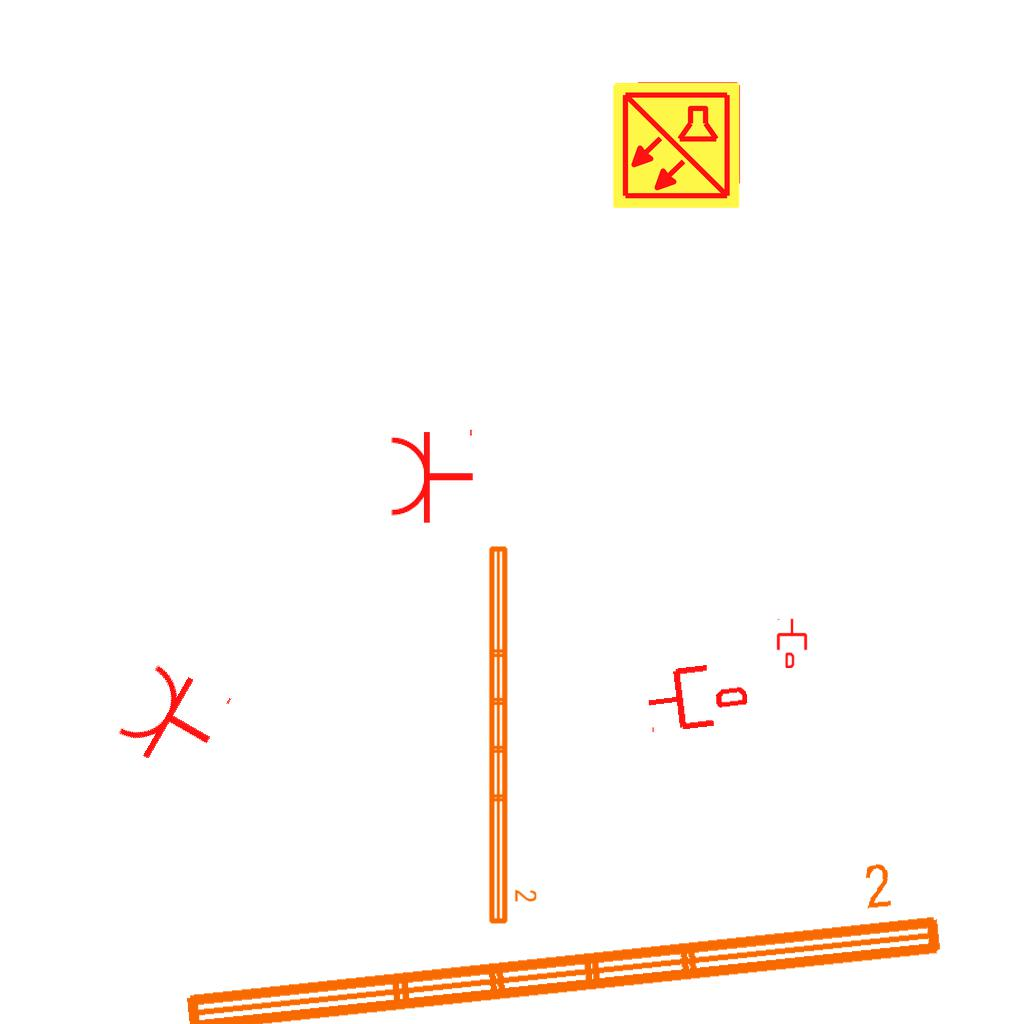Ambulanz_Pendelleuchte_LED: (169, 852, 951, 1024), (483, 541, 539, 928)
Datenanschluss_einfach: (642, 656, 751, 738), (775, 618, 809, 668)
OKW_Multisensormelder_(Kombination_optischer_Rauch-Kahlenmonoxid_Waerme-Melder): (610, 79, 742, 211)
Schukosteckdose_einfach: (110, 652, 237, 784), (388, 425, 475, 525)
